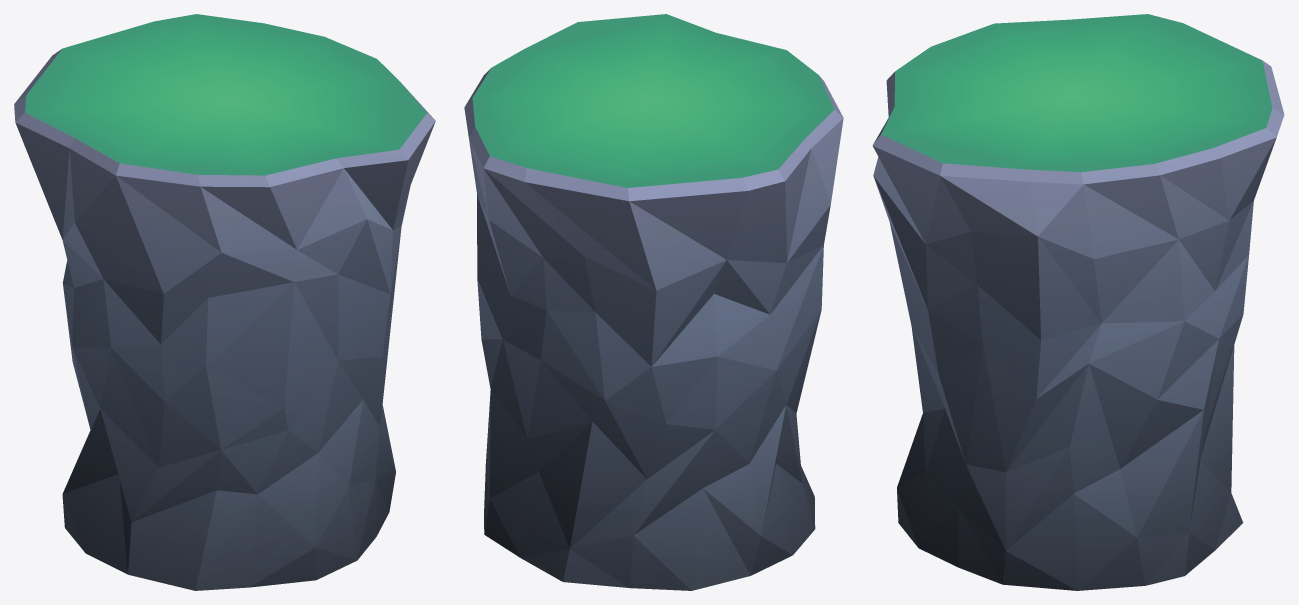
File: Cliff_1.fbx
3 renders of one model, left to right at view 1: azimuth 30°, elevation 25°; view 2: azimuth 150°, elevation 25°; view 3: azimuth 270°, elevation 25°, orthographic.
Parts seen in each view (by area): view 1: Cliff 3; view 2: Cliff 3; view 3: Cliff 3.
Boxes of the visible parts, x1,y1,x2,y2 form: Cliff 3: (14, 14, 435, 590); Cliff 3: (464, 14, 843, 590); Cliff 3: (872, 14, 1284, 590).
Bounding box in the file's own units: 860 × 986 × 865.
